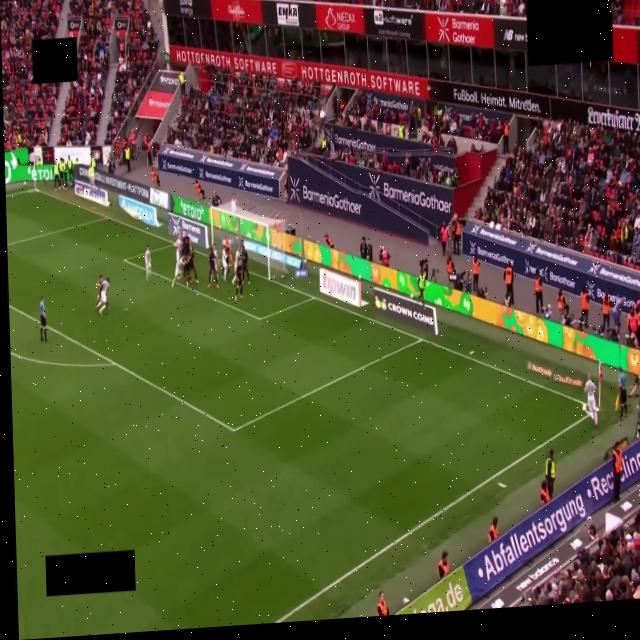ball: (582, 403, 587, 412)
player: (585, 376, 598, 425), (172, 235, 183, 286), (184, 250, 198, 285), (208, 244, 219, 288), (172, 257, 187, 287), (97, 278, 109, 313), (222, 238, 231, 281), (241, 244, 250, 284), (189, 247, 198, 283), (233, 243, 241, 283), (95, 275, 103, 307), (235, 265, 242, 300), (184, 255, 192, 285), (182, 234, 192, 256), (145, 246, 151, 280)
referee: (39, 296, 47, 341)
